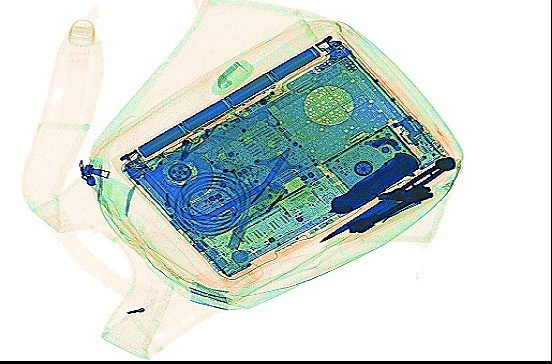knife: (317, 152, 458, 243), (323, 148, 420, 215), (344, 178, 432, 233)
